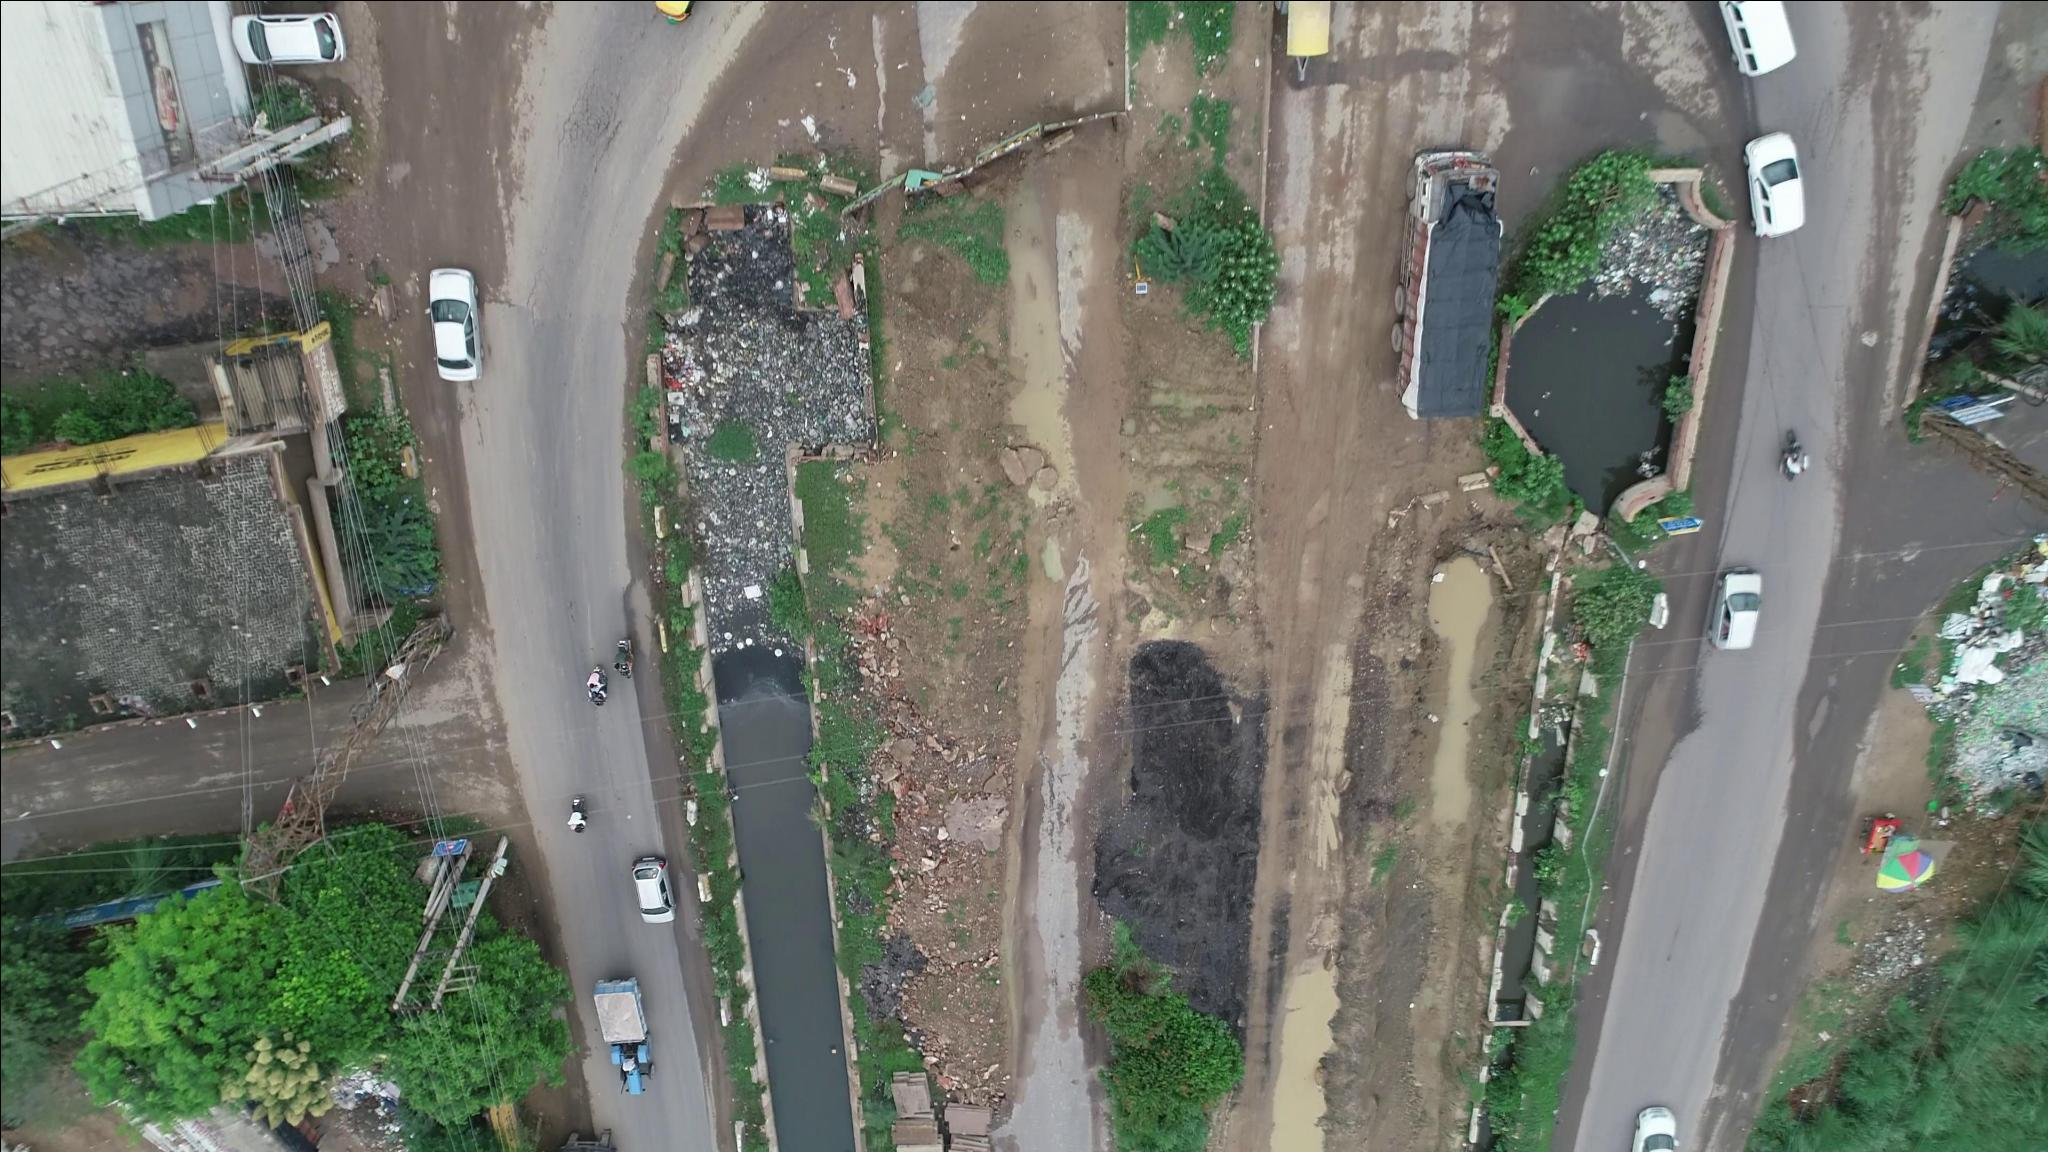Potholes: (1772, 644, 1862, 772)
